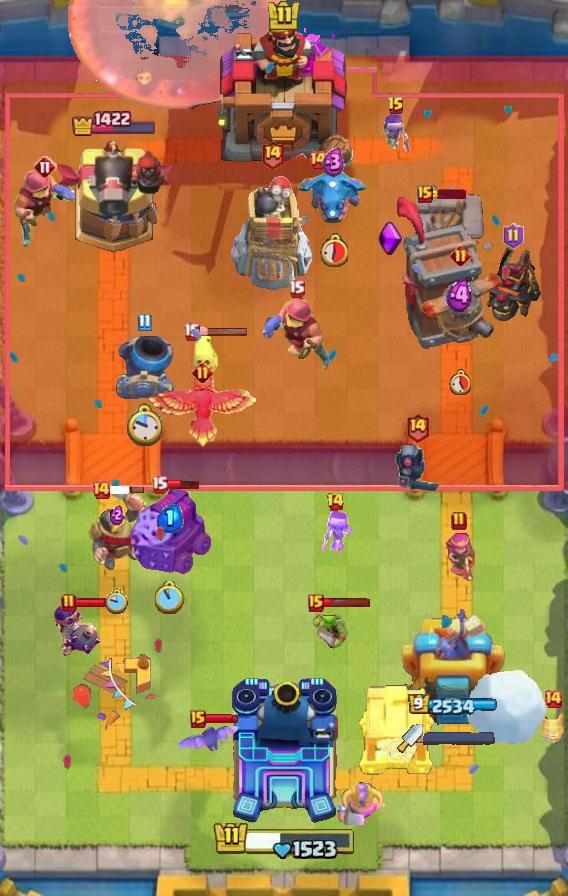archer-evolution: (483, 243, 543, 323)
bar: (401, 601, 505, 731)
barbarian: (178, 724, 242, 754)
bat-evolution: (189, 334, 219, 380)
battle-ram: (392, 441, 442, 495)
bomb: (356, 682, 436, 776)
cannon: (439, 533, 479, 583)
clock: (212, 817, 356, 859)
dark-prince: (415, 258, 505, 348)
dart-goblin: (394, 195, 484, 351)
electro-spirit: (446, 277, 474, 315), (157, 504, 184, 532), (322, 147, 345, 178), (110, 504, 124, 525)
elixir: (125, 403, 163, 448), (155, 582, 185, 615), (320, 233, 348, 267), (106, 588, 129, 614), (449, 369, 471, 395)
emote: (321, 596, 371, 608), (197, 327, 249, 338), (75, 596, 113, 608), (203, 713, 239, 725), (165, 479, 201, 490), (430, 189, 466, 199), (109, 485, 145, 495)
fireball: (11, 170, 79, 250), (260, 298, 332, 372)
firecracker: (88, 489, 146, 572)
goblin: (317, 511, 353, 551), (380, 112, 412, 154)
goblin-ball: (52, 603, 102, 657)
goblin-giant: (337, 782, 387, 825)
golden-knight: (147, 374, 257, 450)
golem: (128, 485, 212, 575)
graveyard: (297, 164, 369, 226)
ice-spirit-evolution: (539, 709, 567, 745)
king-tower: (211, 7, 357, 181), (228, 676, 340, 826)
king-tower-bar: (423, 731, 495, 745)
musketeer: (114, 335, 174, 399)
phoenix-egg: (67, 0, 288, 108)
selected: (70, 111, 157, 138), (408, 694, 498, 717)
skeleton-king-skill: (377, 220, 403, 256)
text: (405, 413, 430, 444), (259, 139, 284, 169), (33, 155, 57, 179), (504, 223, 525, 249), (449, 245, 470, 266), (192, 362, 213, 383), (308, 150, 328, 170), (91, 480, 111, 500), (543, 689, 563, 709), (326, 492, 345, 512), (387, 96, 405, 116), (183, 323, 201, 342), (151, 475, 169, 494), (288, 279, 305, 298), (451, 511, 467, 531), (61, 593, 77, 613), (417, 185, 433, 203), (308, 594, 324, 612), (190, 710, 206, 728), (137, 313, 151, 331)
tower-bar: (53, 138, 175, 256)
wall-breaker: (464, 668, 548, 746)
zap: (311, 608, 349, 650)
zappy: (229, 173, 314, 295)
